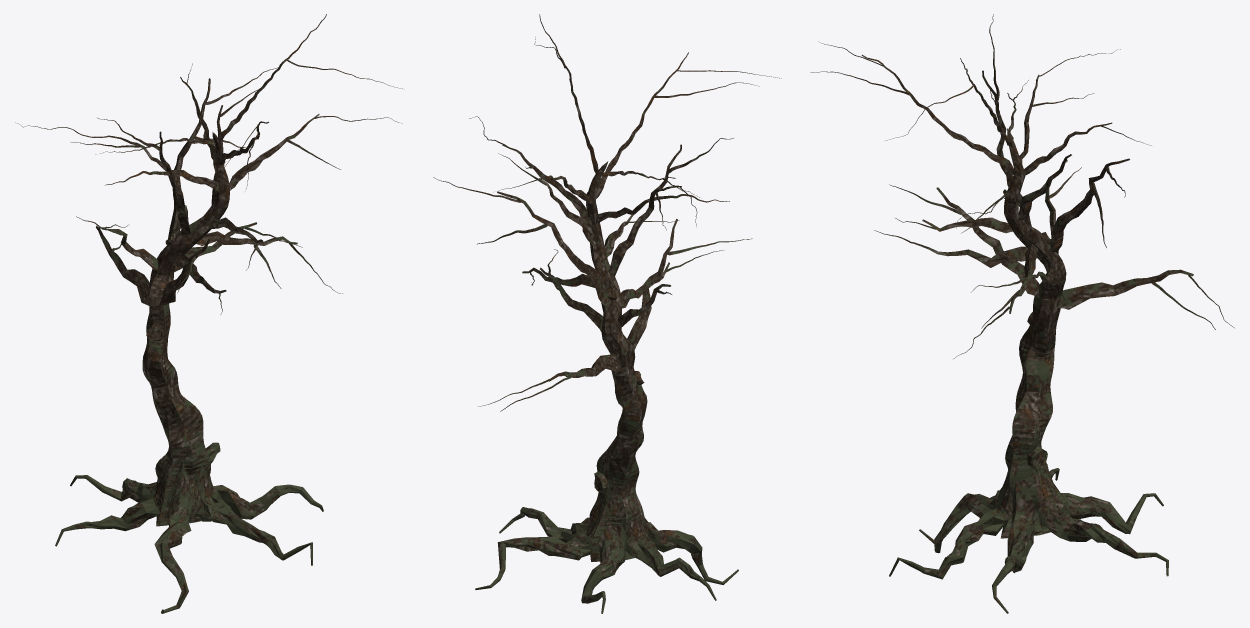
File: Tree_02.fbx
The picture shows the model from 3 angles, left to right: view 1: azimuth 30°, elevation 25°; view 2: azimuth 150°, elevation 25°; view 3: azimuth 270°, elevation 25°; orthographic projection. The views are drawn at different scales.
Visible parts, largest first — view 1: Tree_02; view 2: Tree_02; view 3: Tree_02.
Boxes of the visible parts, box(x1,y1,x2,y2) form: Tree_02: box(15, 14, 402, 613); Tree_02: box(433, 14, 781, 613); Tree_02: box(810, 14, 1234, 613).
Bounding box in the file's own units: 345 × 581 × 388.
Materials: 1 (1 with a texture image).
